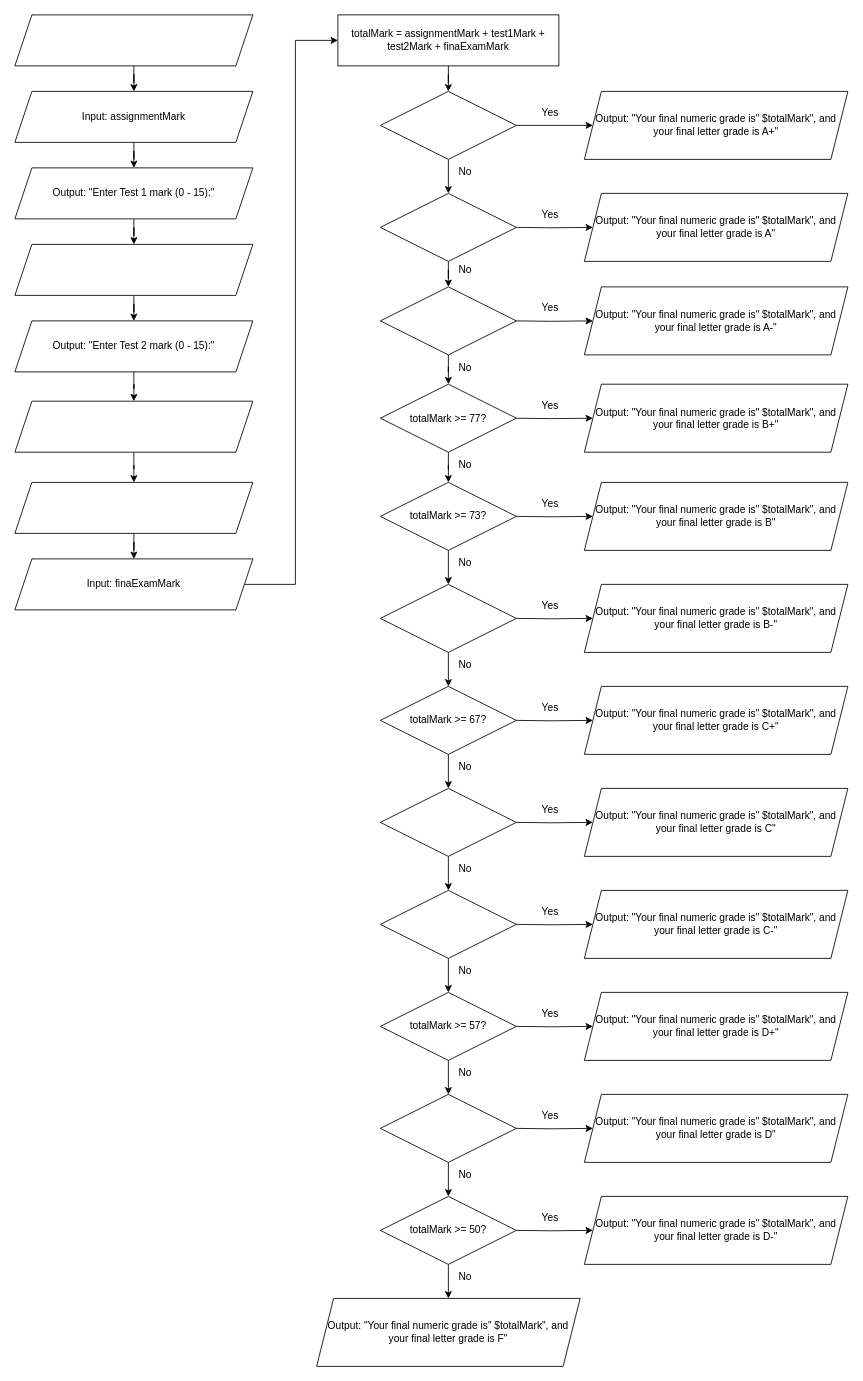
This 863x1381 diagram has some shape labels left out. Here are the shapes that lost their labels. From the top down, the box of each, then its label:
(14, 14, 253, 66): Output: "Enter Assignment mark (0 - 40):"
(380, 91, 516, 159): totalMark >= 90?
(380, 193, 516, 261): totalMark >= 85?
(14, 244, 253, 295): Input: test1Mark
(380, 286, 516, 355): totalMark >= 80?
(14, 400, 253, 452): Input: test2Mark
(14, 482, 253, 533): Output: "Enter final exam mark (0 - 30):"
(380, 584, 516, 652): totalMark >= 70?
(380, 788, 516, 856): totalMark >= 63?
(380, 890, 516, 958): totalMark >= 60?
(380, 1094, 516, 1162): totalMark >= 53?
